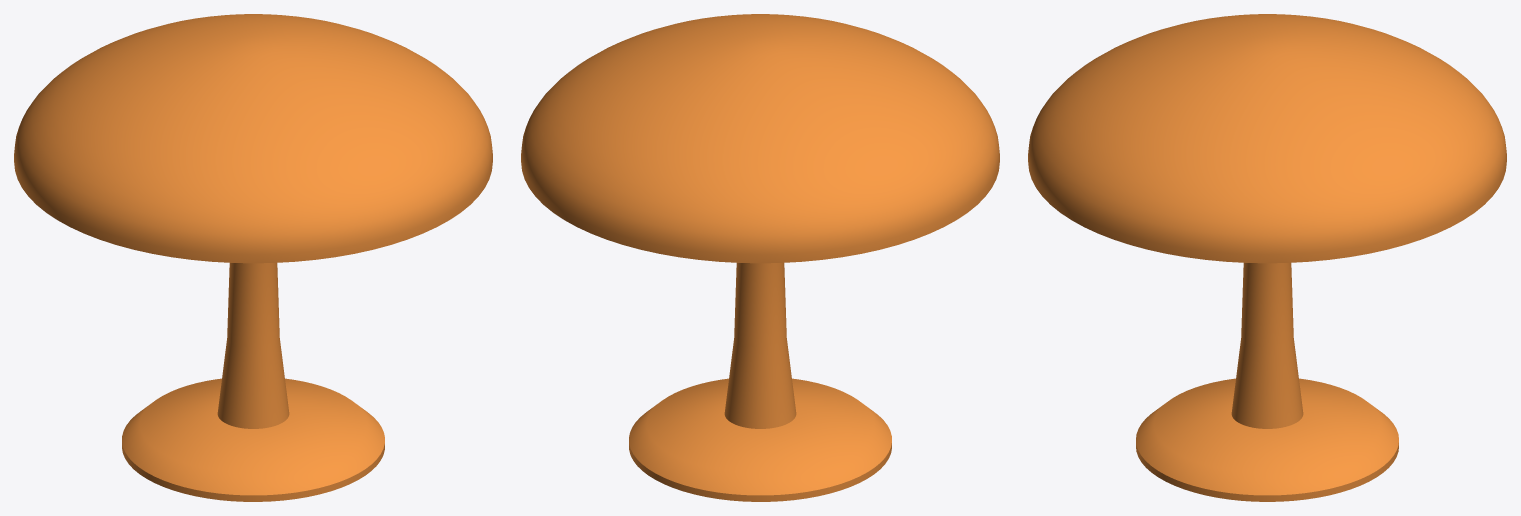
File: mushroom_lamp.glb
The picture shows the model from 3 angles, left to right: view 1: azimuth 30°, elevation 25°; view 2: azimuth 150°, elevation 25°; view 3: azimuth 270°, elevation 25°; orthographic projection.
Parts seen in each view (by area): view 1: Shade, Base, Stem; view 2: Shade, Base, Stem; view 3: Shade, Base, Stem.
Boxes of the visible parts, x1,y1,x2,y2 form: Shade: [14, 14, 492, 263]; Base: [122, 378, 384, 501]; Stem: [217, 263, 289, 428]; Shade: [521, 14, 999, 263]; Base: [629, 378, 891, 501]; Stem: [724, 263, 796, 428]; Shade: [1028, 14, 1506, 263]; Base: [1136, 378, 1398, 501]; Stem: [1231, 263, 1303, 428].
Size of the model in its own units: 0.4 by 0.37 by 0.4.
